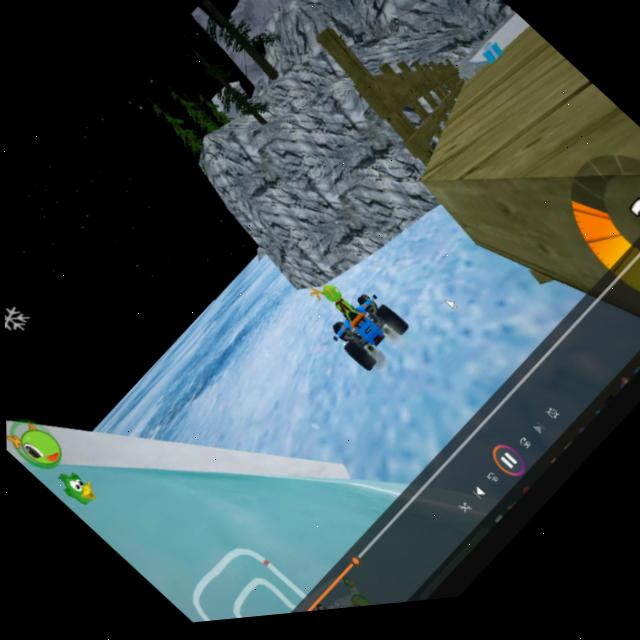bonus: (476, 47, 505, 77)
off_track: (103, 204, 338, 451)
player_kart: (295, 268, 420, 401)
track: (421, 36, 618, 244)
